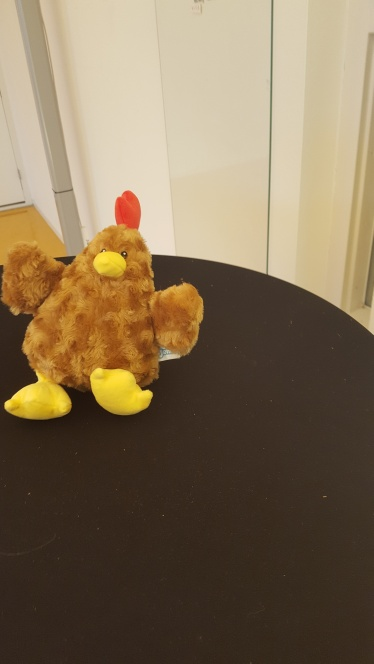chicken_front: (2, 189, 203, 421)
